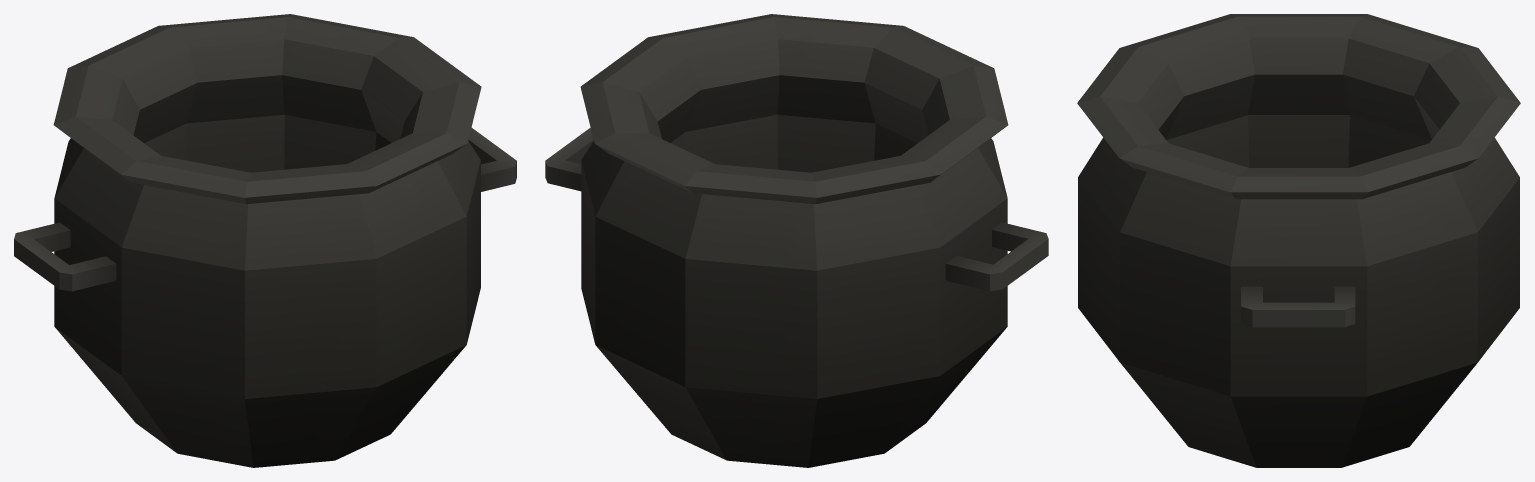
Rendered from Cauldron.fbx.
The picture shows the model from 3 angles, left to right: view 1: azimuth 30°, elevation 25°; view 2: azimuth 150°, elevation 25°; view 3: azimuth 270°, elevation 25°; orthographic projection.
Parts seen in each view (by area): view 1: Cauldron; view 2: Cauldron; view 3: Cauldron.
Part boxes in pixels (<box>): Cauldron: <box>14,14,516,467</box>; Cauldron: <box>545,14,1048,467</box>; Cauldron: <box>1077,14,1520,467</box>.
Size of the model in its own units: 104 by 85.81 by 71.68.
Materials: 1 (1 with a texture image).
